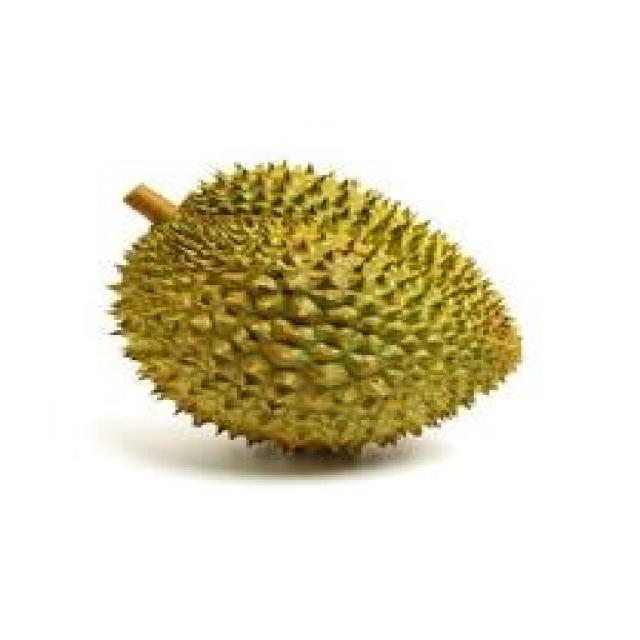fruit: (77, 128, 483, 510)
